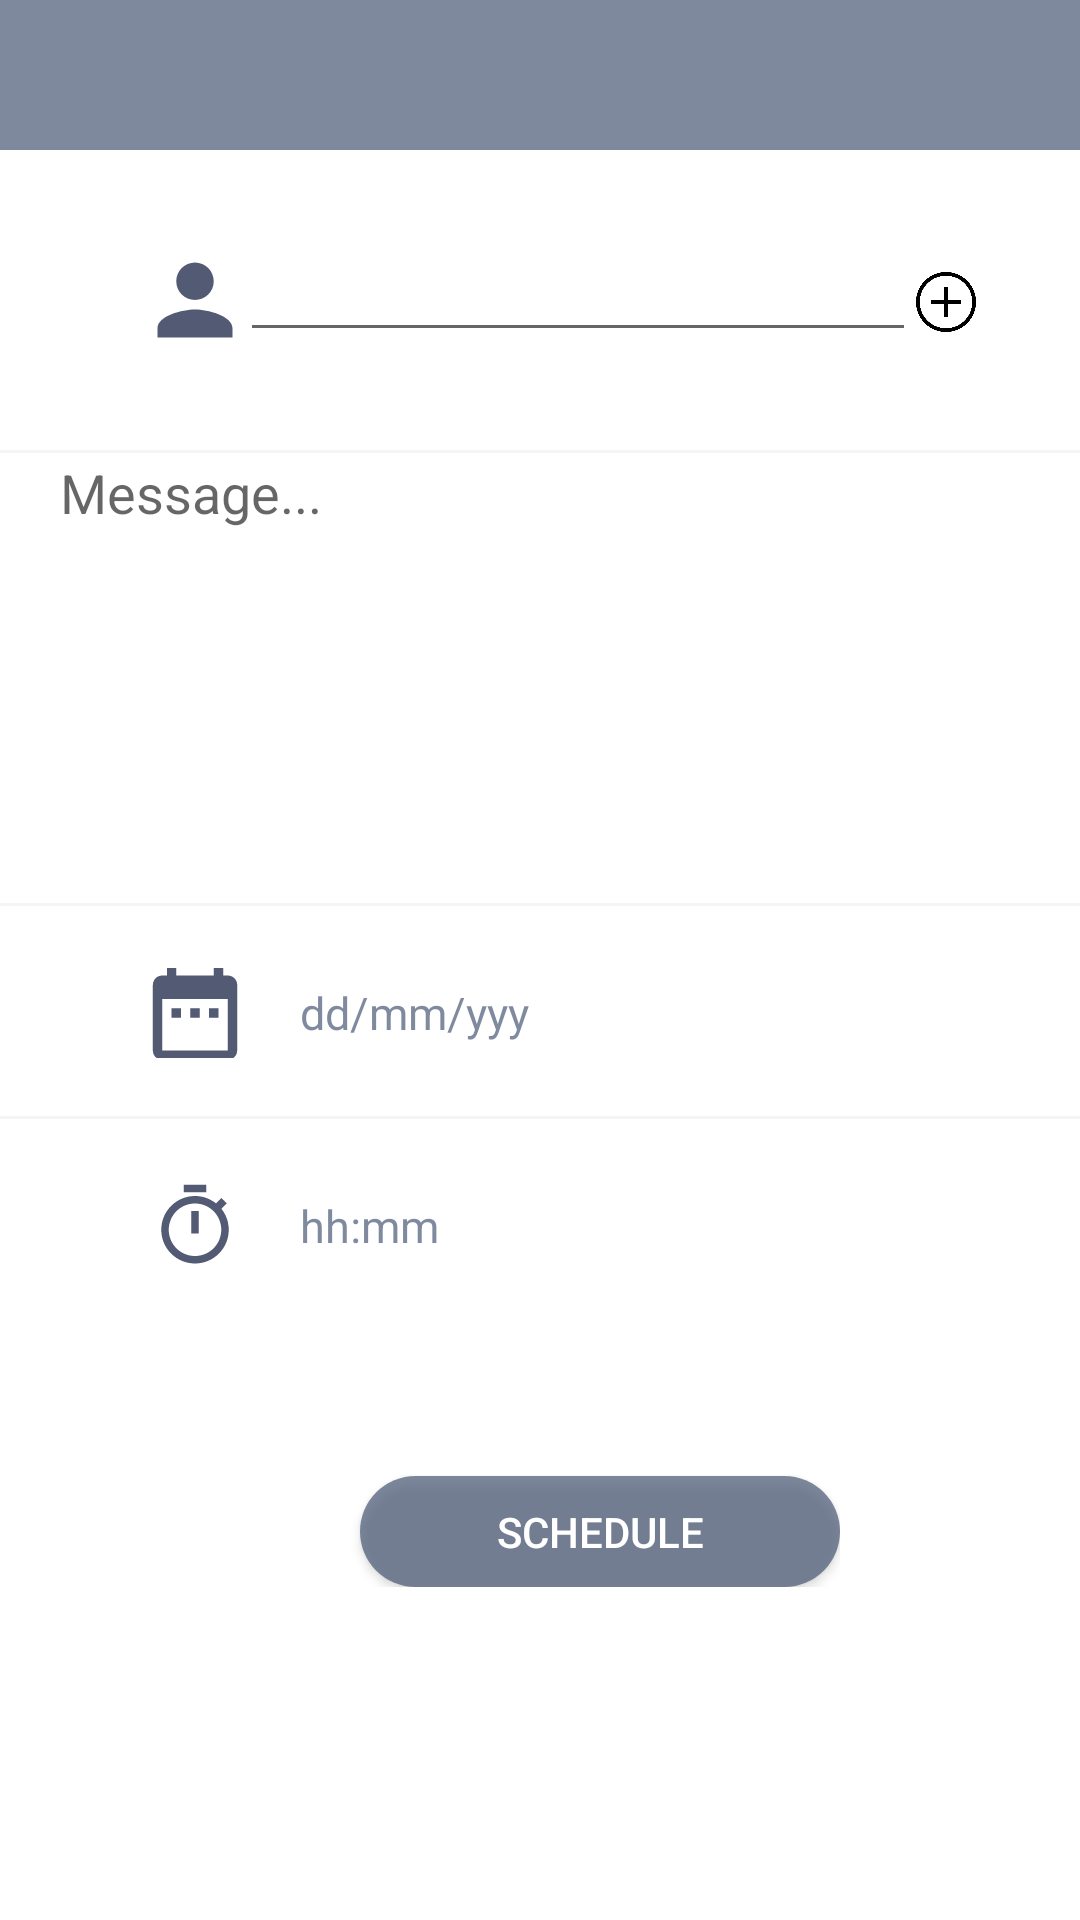

Icon bounding boxes for this 1080 x 1920 phone screenshot, format (x1, y1, x2, y2):
add: (916, 272, 976, 332)
date: (152, 968, 238, 1058)
time: (161, 1184, 229, 1264)
user: (157, 262, 233, 338)
